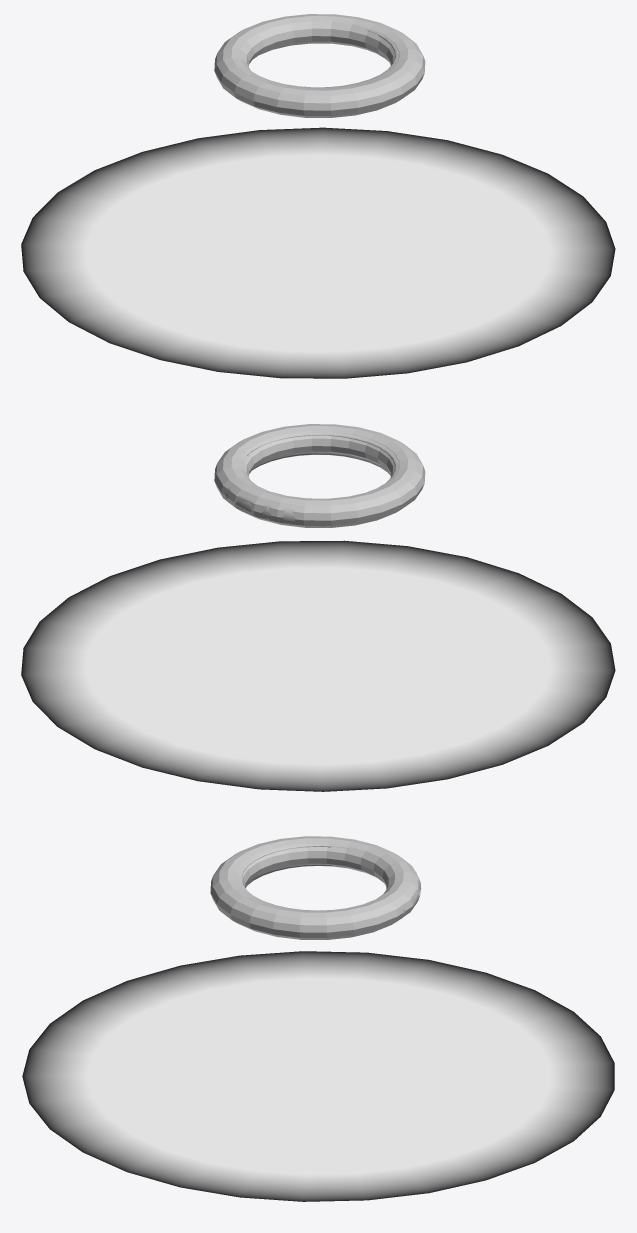
The model's file is pref_TPC_v2_NeutralScoreArea03_winter_orange_frozen_lv2.fbx.
3 views of the same model, one above another, from view 1: azimuth 30°, elevation 25°; view 2: azimuth 150°, elevation 25°; view 3: azimuth 270°, elevation 25° (orthographic).
Parts seen in each view (by area): view 1: dm_ice_1, ring, fresnel (2); view 2: dm_ice_1, ring, fresnel (2); view 3: dm_ice_1, ring, fresnel (2).
Boxes of the visible parts, box(x1,y1,x2,y2) form: dm_ice_1: box(21, 127, 615, 378); ring: box(214, 14, 425, 117); fresnel (2): box(241, 28, 398, 88); dm_ice_1: box(21, 540, 615, 791); ring: box(214, 424, 425, 527); fresnel (2): box(225, 432, 398, 526); dm_ice_1: box(22, 951, 614, 1201); ring: box(210, 836, 420, 939); fresnel (2): box(237, 844, 421, 918).
Size of the model in its own units: 7.46 by 2.9 by 7.46.
